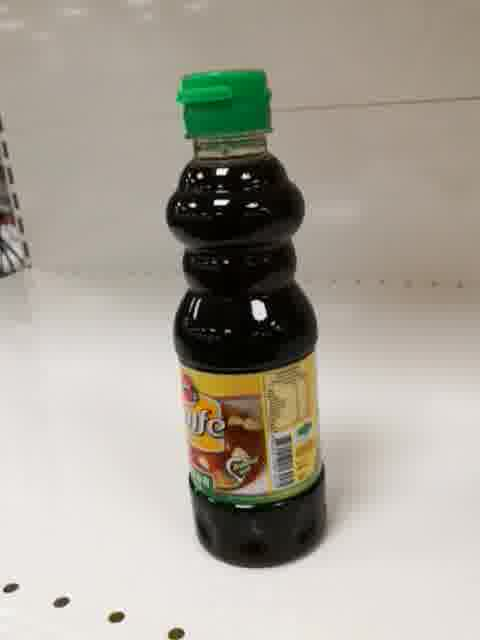cookingoil: (162, 64, 330, 573)
